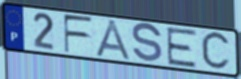2: (33, 12, 56, 52)
A: (93, 19, 135, 62)
C: (199, 30, 232, 73)
E: (165, 26, 198, 69)
F: (63, 14, 95, 55)
S: (130, 22, 164, 65)
